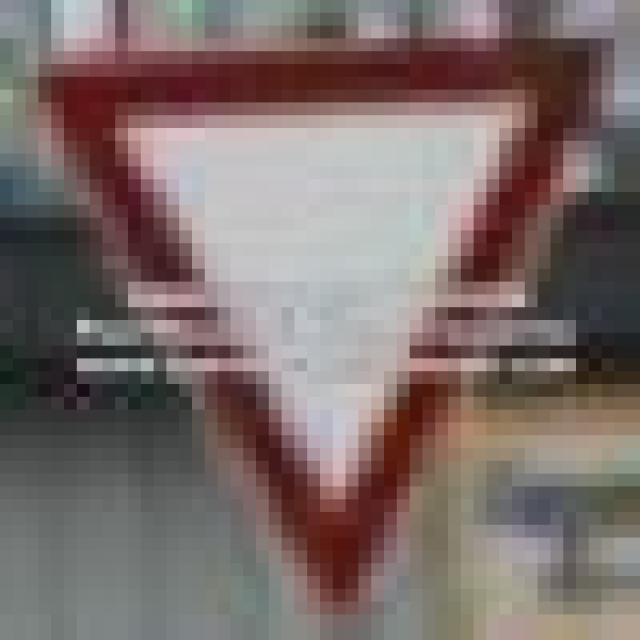gap_in_median: (26, 38, 588, 589)
